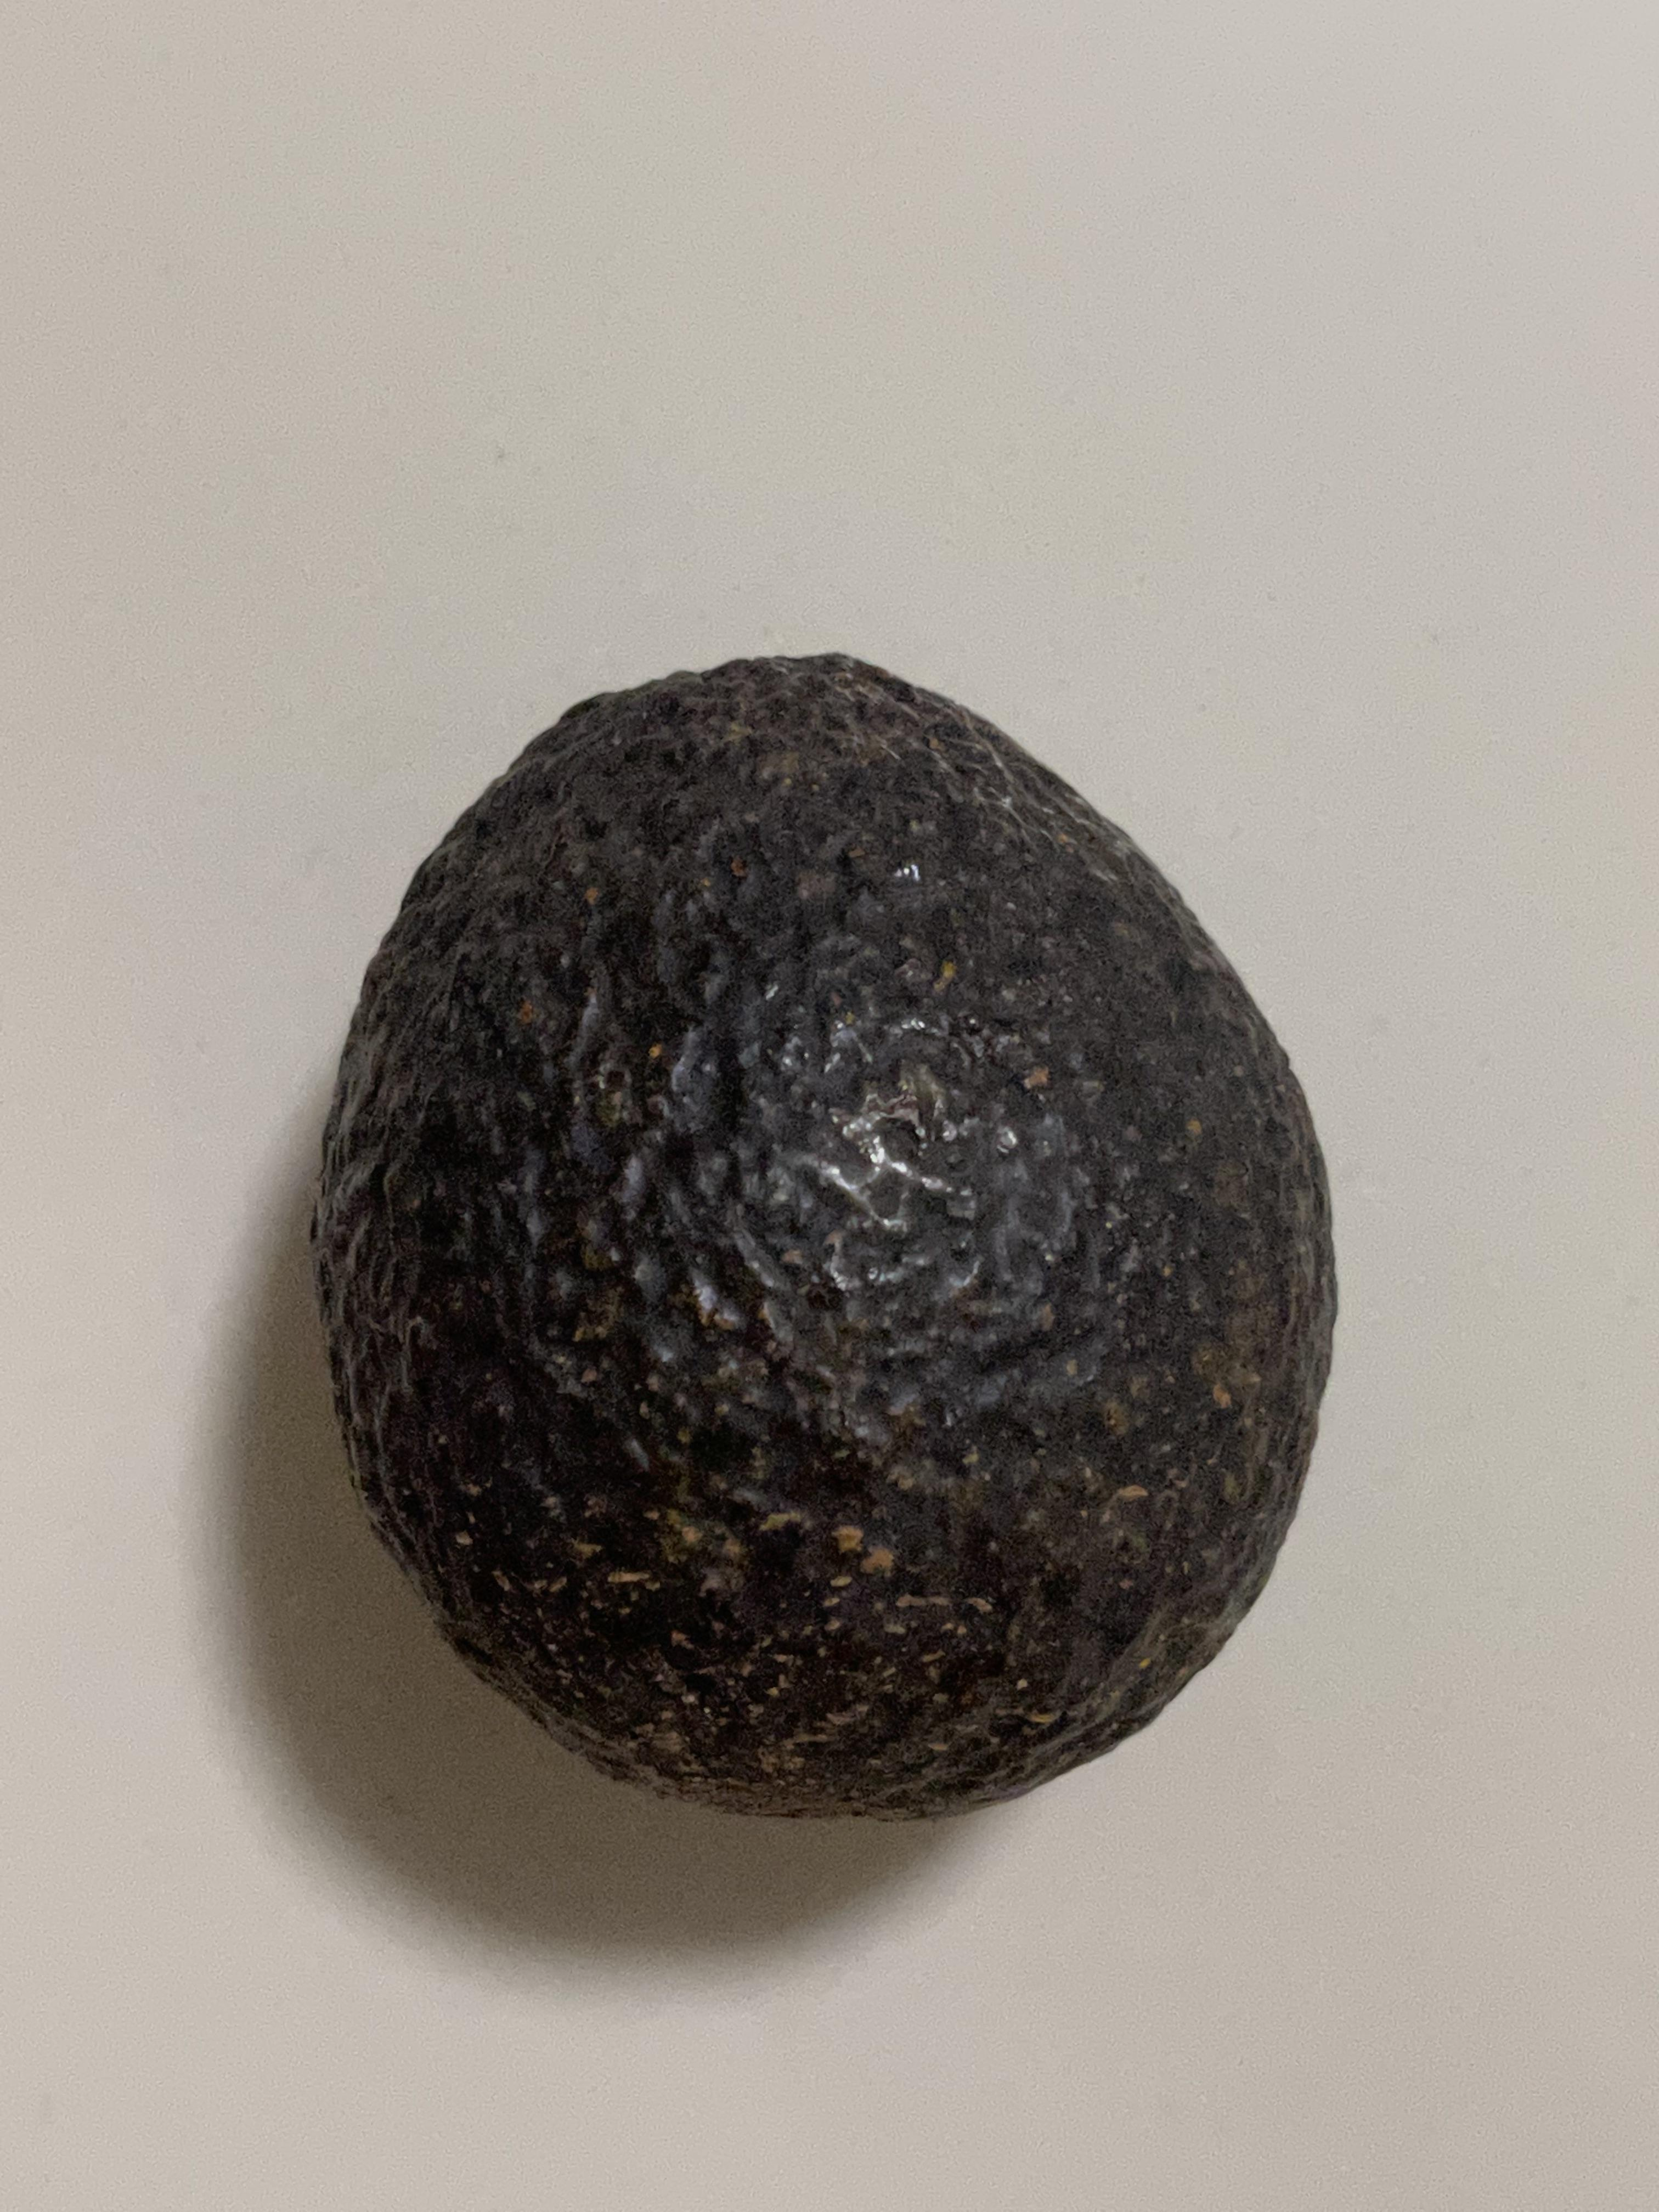Level2: (286, 620, 1364, 1841)
